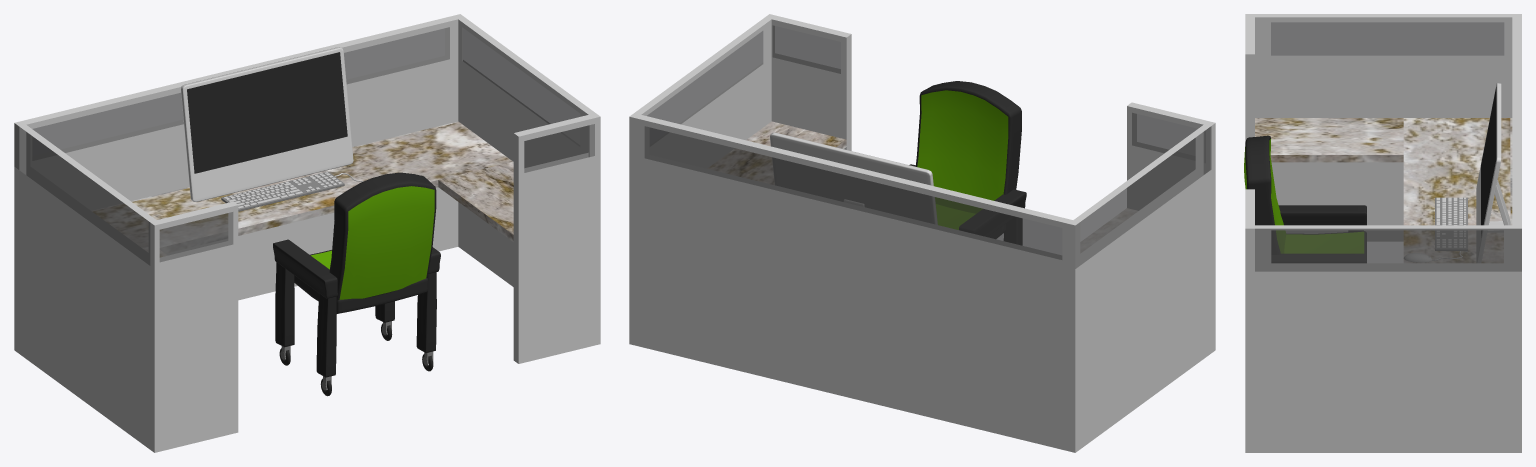
Rendered from Office-set-textured.fbx.
The picture shows the model from 3 angles, left to right: view 1: azimuth 30°, elevation 25°; view 2: azimuth 150°, elevation 25°; view 3: azimuth 270°, elevation 25°; orthographic projection.
Visible parts, largest first — view 1: office_desk13, Mac, Sofa_4, Sofa_5, Sofa_3, Sofa_29, Sofa_26, kEYBOARD, Sofa_28; view 2: office_desk13, Sofa_4, Mac, Sofa_5, Sofa_3; view 3: office_desk13, Sofa_4, Mac, Sofa_5, Sofa_3, kEYBOARD, Sofa_2, Mac_hanfle.
Boxes of the visible parts, x1,y1,x2,y2 form: office_desk13: [14, 14, 600, 452]; Mac: [181, 47, 353, 201]; Sofa_4: [329, 172, 436, 313]; Sofa_5: [273, 239, 337, 298]; Sofa_3: [294, 250, 427, 313]; Sofa_29: [316, 293, 336, 377]; Sofa_26: [275, 262, 294, 347]; kEYBOARD: [221, 171, 344, 211]; Sofa_28: [416, 272, 436, 353]; office_desk13: [629, 14, 1215, 452]; Sofa_4: [915, 81, 1021, 231]; Mac: [770, 132, 937, 224]; Sofa_5: [959, 189, 1026, 236]; Sofa_3: [936, 204, 1003, 238]; office_desk13: [1245, 14, 1521, 452]; Sofa_4: [1244, 135, 1285, 254]; Mac: [1476, 83, 1501, 262]; Sofa_5: [1278, 205, 1366, 225]; Sofa_3: [1284, 231, 1366, 253]; kEYBOARD: [1435, 197, 1467, 250]; Sofa_2: [1271, 254, 1366, 262]; Mac_hanfle: [1488, 180, 1510, 232].
Size of the model in its own units: 8.96 by 4.51 by 4.9.
